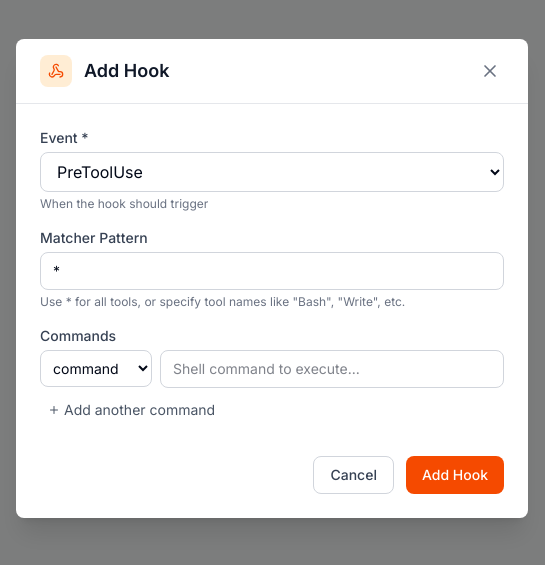
Scenario: HookEditModal › adds another hook command input when button clicked
Click the button "Add another command" at point(132, 410), box [40,396,223,424]
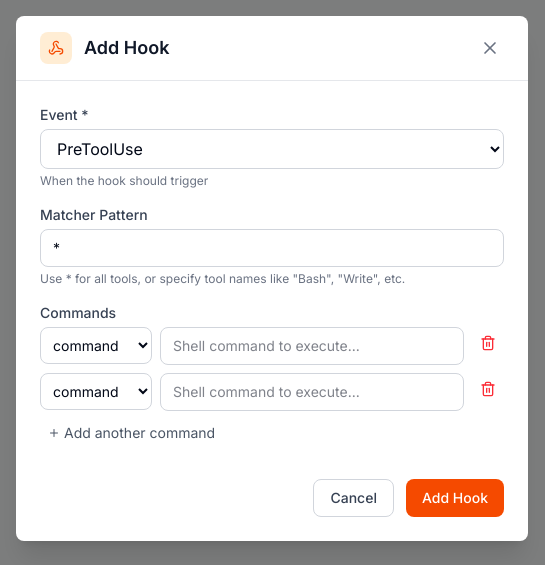
Expected: the number of fields with placeholder "Shell command to execute..." is 2, [160,326,464,364]; [160,372,464,410]
